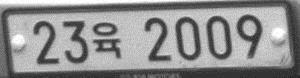0: (203, 14, 233, 60), (174, 15, 202, 61)
2: (31, 20, 63, 66), (143, 16, 171, 62)
3: (60, 19, 90, 65)
9: (236, 13, 263, 60)
육: (91, 21, 123, 59)
